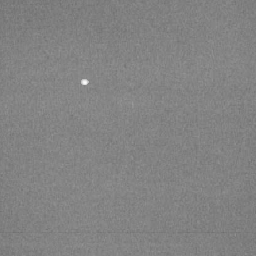Target: (79, 77, 90, 86)
